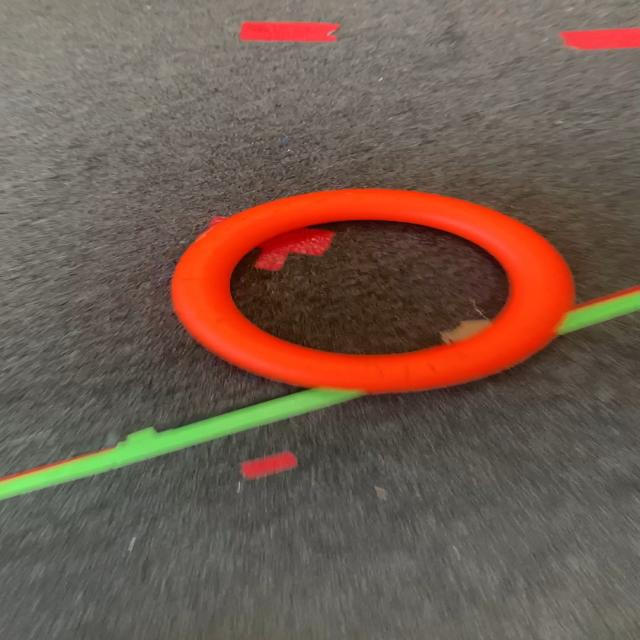notes: (166, 188, 571, 391)
